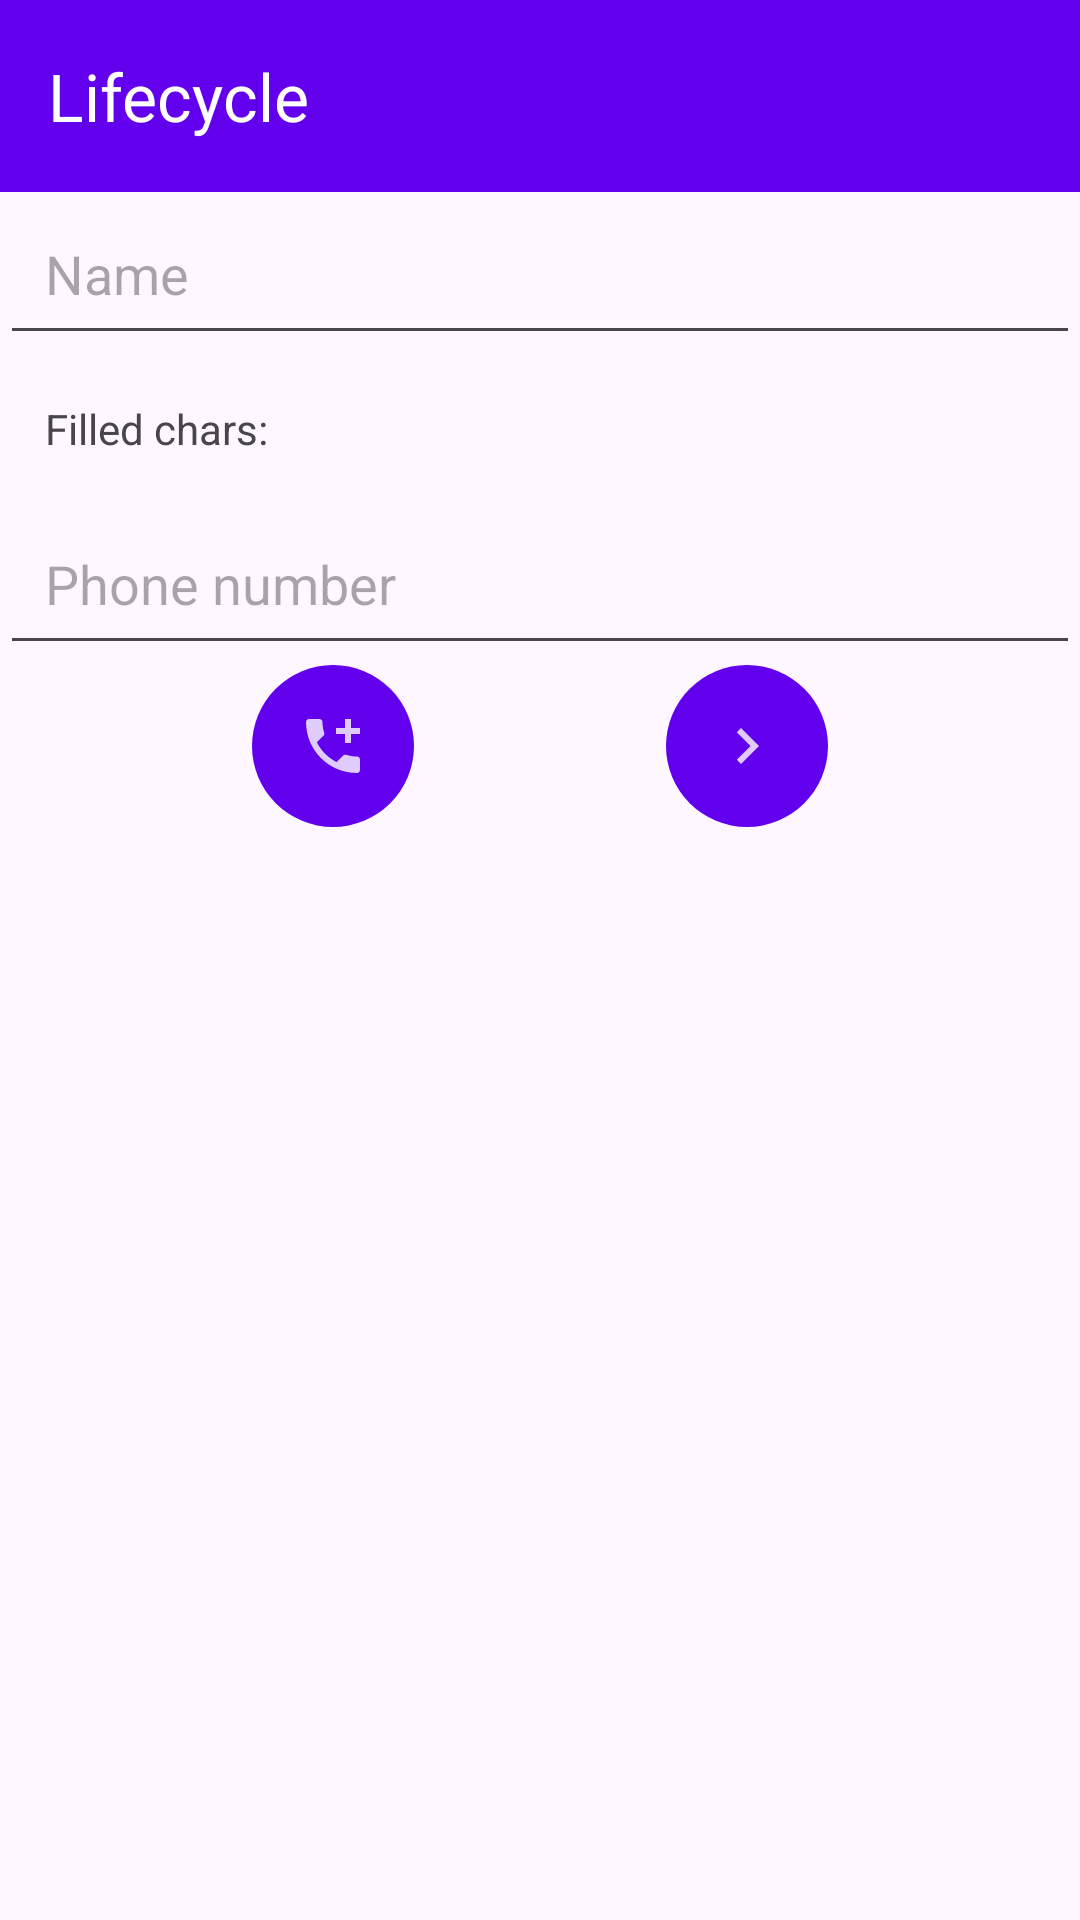

Screen size 1080×1920. Icon name, then its center in pixels as point (x, y):
Add phone: point (333, 746)
Next: point (747, 746)
